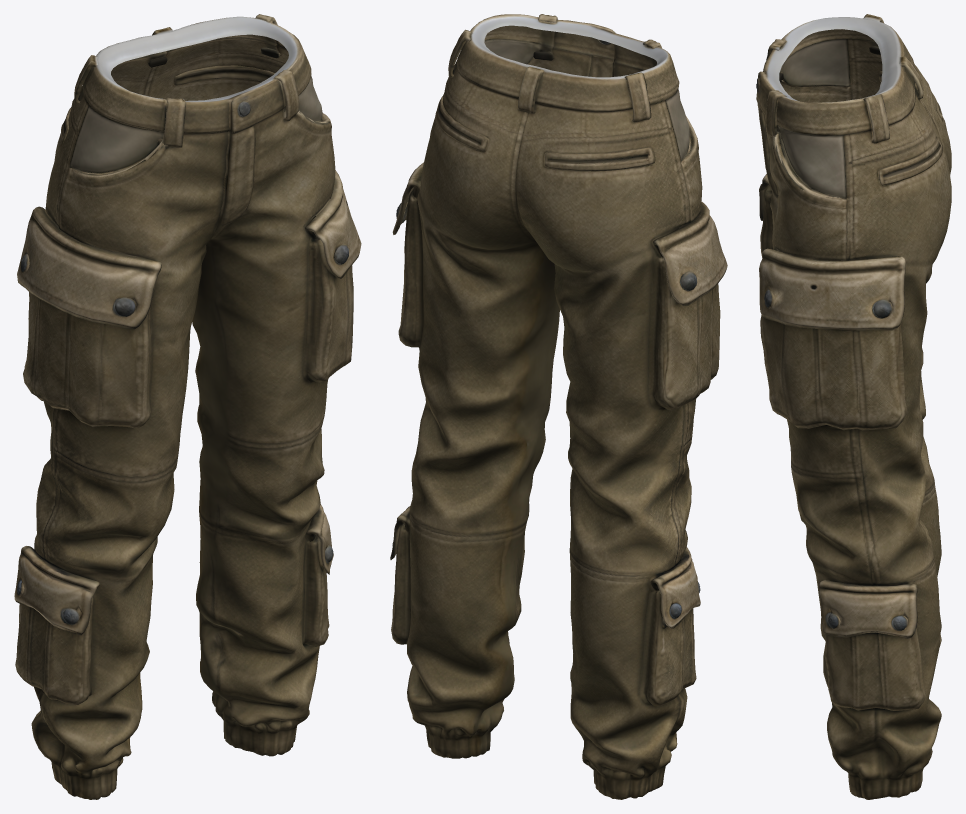
Rendered from cargo_pants_3d_model.fbx.
3 views of the same model, side by side, from view 1: azimuth 30°, elevation 25°; view 2: azimuth 150°, elevation 25°; view 3: azimuth 270°, elevation 25° (orthographic). The views are drawn at different scales.
Visible parts, largest first — view 1: tripo_part_4; view 2: tripo_part_4; view 3: tripo_part_4.
Part boxes in pixels (bbox=[...]): tripo_part_4: bbox=[14, 14, 361, 799]; tripo_part_4: bbox=[390, 14, 727, 799]; tripo_part_4: bbox=[756, 14, 951, 799].
Bounding box in the file's own units: 0.2544 × 0.5713 × 0.1455.
Materials: 1 (1 with a texture image).
